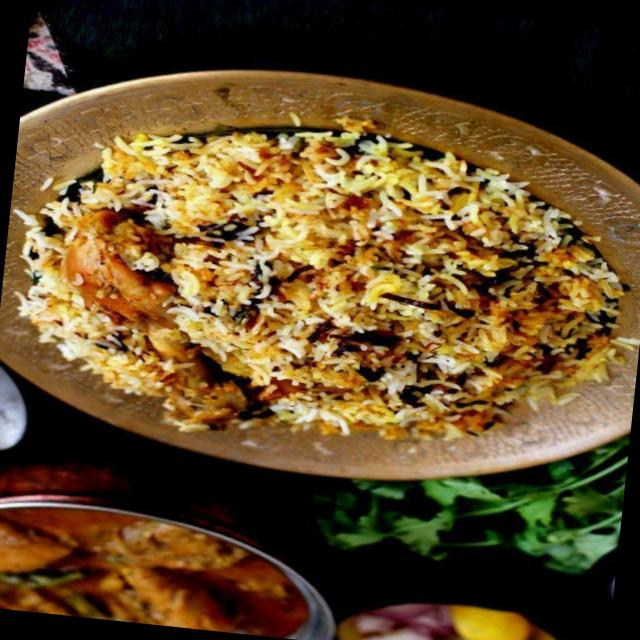Biryani: (0, 91, 640, 487)
